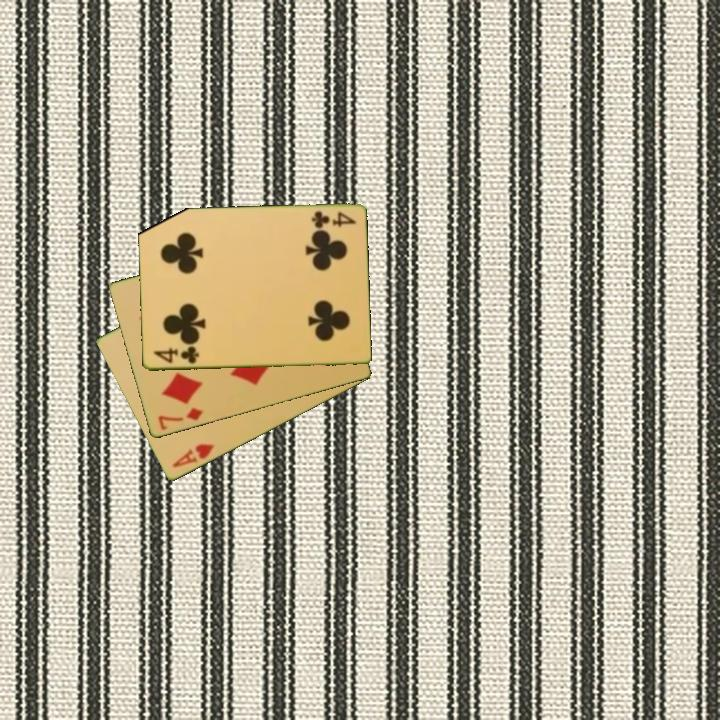4c: (150, 343, 202, 367), (307, 208, 359, 230)
7d: (154, 404, 206, 433)
Ah: (168, 440, 217, 471)
